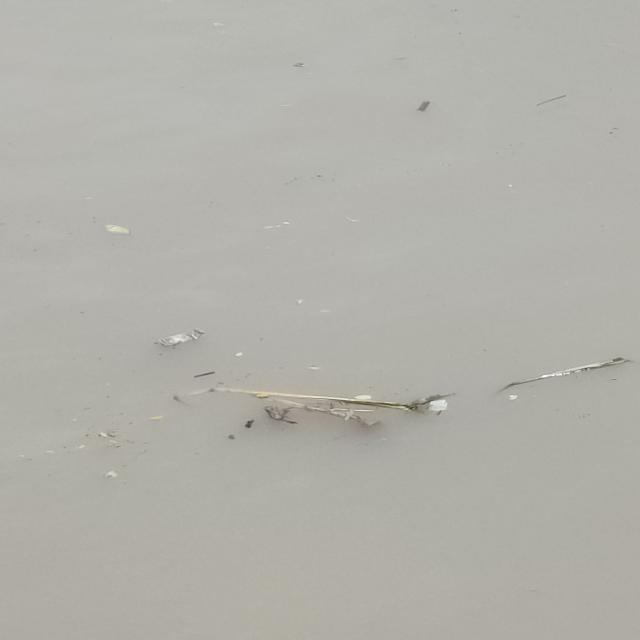Organic Debris: (188, 377, 458, 452), (479, 340, 640, 414), (18, 414, 175, 481), (526, 86, 583, 111), (248, 219, 305, 237), (406, 97, 439, 120), (95, 220, 132, 238), (339, 210, 363, 232), (286, 293, 311, 309)
Plastic: (142, 319, 204, 357), (403, 384, 456, 418)
